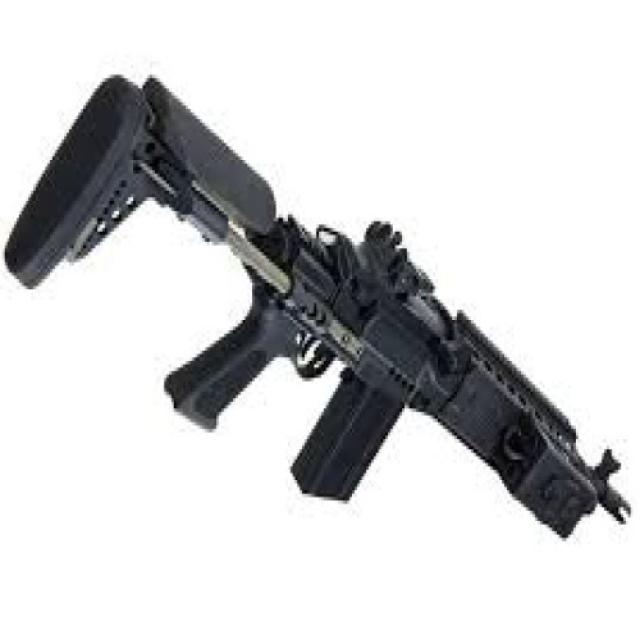Gun: (11, 44, 630, 568)
